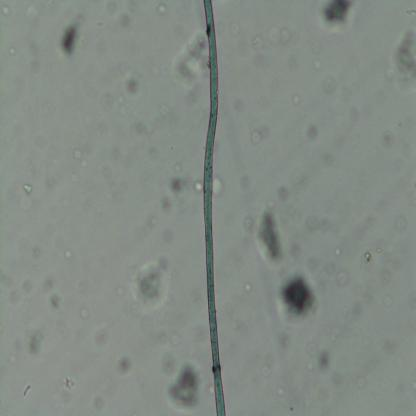Background material: (275, 267, 321, 330), (126, 256, 172, 312), (165, 354, 206, 410), (174, 27, 206, 98), (254, 200, 286, 268), (388, 25, 416, 89), (0, 261, 40, 304), (140, 313, 183, 351), (235, 18, 264, 68), (320, 1, 358, 34), (59, 9, 83, 60), (327, 256, 355, 291), (74, 135, 99, 171), (162, 177, 186, 213), (28, 32, 49, 72), (24, 324, 46, 358), (121, 67, 142, 97), (112, 352, 134, 379), (317, 347, 333, 376), (249, 124, 271, 145), (268, 25, 290, 46), (305, 119, 321, 146), (48, 291, 62, 313), (211, 177, 226, 196), (396, 214, 407, 235), (362, 249, 374, 267), (193, 178, 204, 196), (156, 2, 170, 16), (80, 307, 90, 323), (314, 58, 325, 72), (63, 378, 74, 392), (22, 182, 33, 196), (1, 5, 12, 18), (22, 384, 32, 398), (244, 280, 253, 294), (293, 94, 302, 107), (63, 250, 74, 260), (9, 46, 17, 58)
Microfibre: (199, 0, 228, 415)
